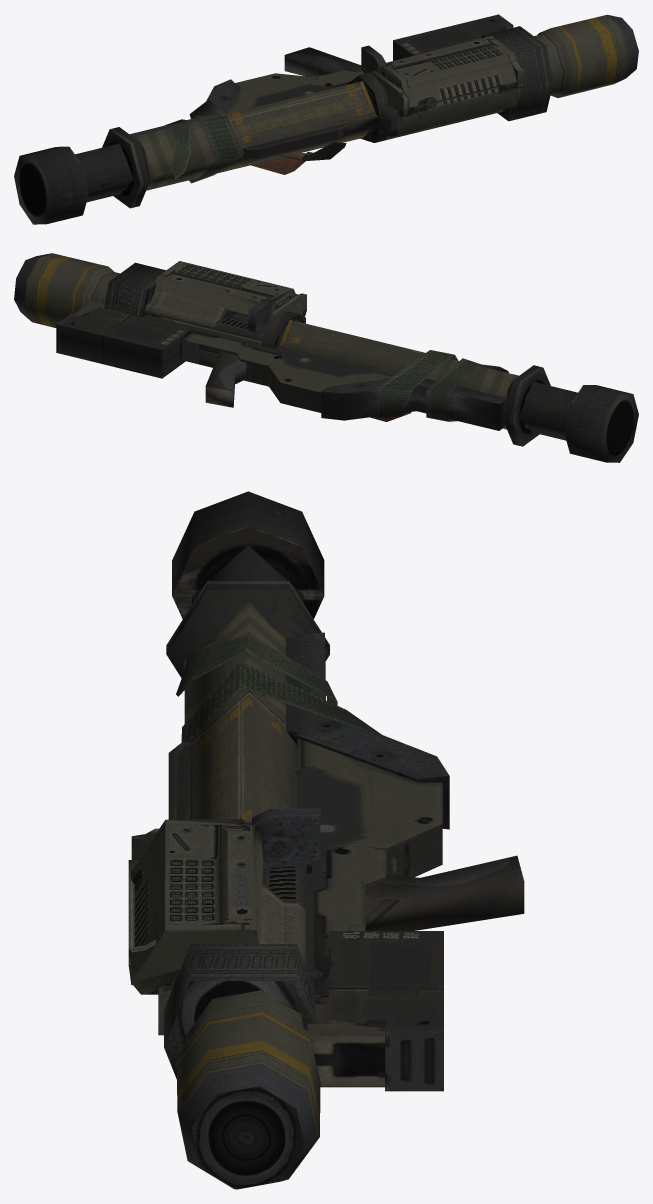
Rendered from t6_wpn_launch_fhj18_stow_LOD1.obj.
3 renders of one model, top to bottom at view 1: azimuth 30°, elevation 25°; view 2: azimuth 150°, elevation 25°; view 3: azimuth 270°, elevation 25°, orthographic. The views are drawn at different scales.
Parts seen in each view (by area): view 1: mtl_t6_wpn_launch_fhj18_camo2, mtl_t6_wpn_launch_fhj18, mtl_t6_wpn_launch_fhj18_camo4, mtl_t6_wpn_launch_fhj18_camo3, mtl_t6_wpn_launch_fhj18_camo5; view 2: mtl_t6_wpn_launch_fhj18_camo2, mtl_t6_wpn_launch_fhj18_camo4, mtl_t6_wpn_launch_fhj18, mtl_t6_wpn_launch_fhj18_camo3, mtl_t6_wpn_launch_fhj18_camo5; view 3: mtl_t6_wpn_launch_fhj18_camo2, mtl_t6_wpn_launch_fhj18, mtl_t6_wpn_launch_fhj18_camo4, mtl_t6_wpn_launch_fhj18_camo3.
Boxes of the visible parts, x1,y1,x2,y2 form: mtl_t6_wpn_launch_fhj18_camo2: (14, 15, 638, 224); mtl_t6_wpn_launch_fhj18: (133, 15, 628, 190); mtl_t6_wpn_launch_fhj18_camo4: (75, 14, 523, 202); mtl_t6_wpn_launch_fhj18_camo3: (227, 27, 562, 174); mtl_t6_wpn_launch_fhj18_camo5: (19, 166, 45, 214); mtl_t6_wpn_launch_fhj18_camo2: (14, 253, 638, 462); mtl_t6_wpn_launch_fhj18_camo4: (56, 261, 577, 440); mtl_t6_wpn_launch_fhj18: (24, 253, 518, 429); mtl_t6_wpn_launch_fhj18_camo3: (74, 272, 411, 421); mtl_t6_wpn_launch_fhj18_camo5: (607, 404, 633, 452); mtl_t6_wpn_launch_fhj18_camo2: (164, 491, 524, 1189); mtl_t6_wpn_launch_fhj18: (128, 602, 443, 1189); mtl_t6_wpn_launch_fhj18_camo4: (131, 545, 443, 1033); mtl_t6_wpn_launch_fhj18_camo3: (185, 738, 442, 1044).
Size of the model in its own units: 89.48 by 11.82 by 25.88.
